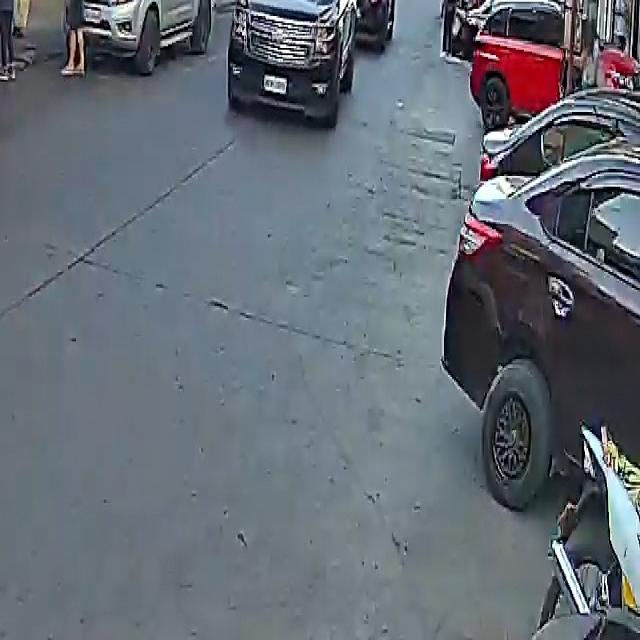car: (446, 84, 640, 534), (224, 0, 358, 123), (470, 0, 595, 130), (64, 0, 218, 76), (340, 0, 394, 48)
